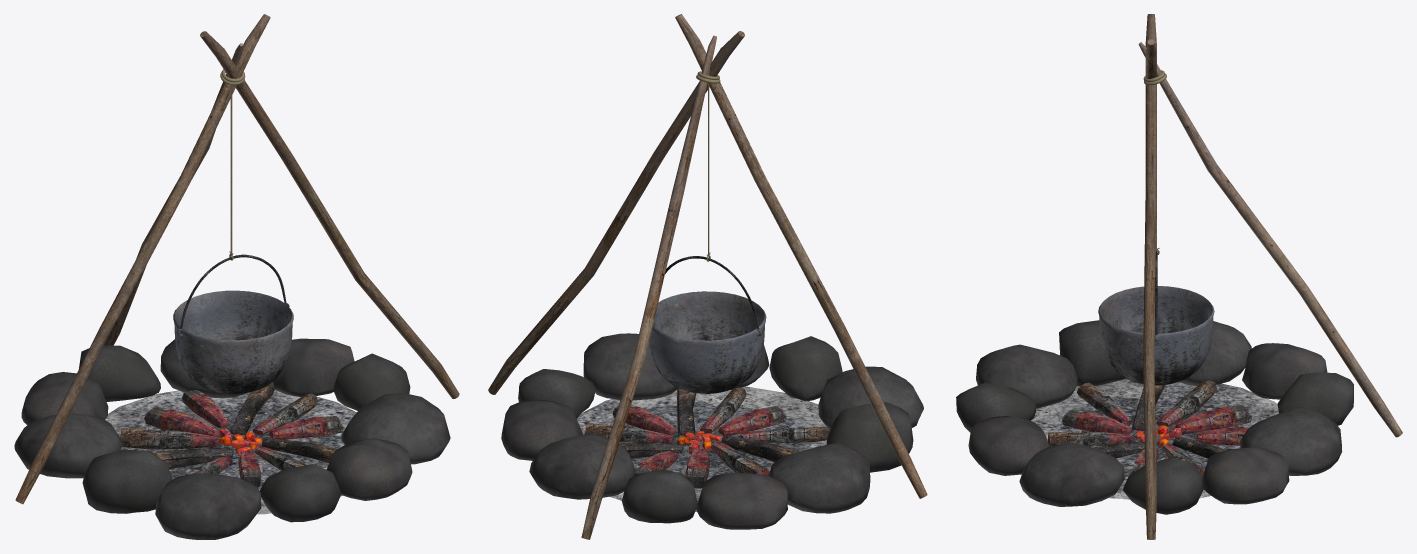
Rendered from campfire-with-cauldron.dae.
3 views of the same model, side by side, from view 1: azimuth 30°, elevation 25°; view 2: azimuth 150°, elevation 25°; view 3: azimuth 270°, elevation 25° (orthographic). The views are drawn at different scales.
Visible parts, largest first — view 1: Camp_Fire_Fire_Woods_Rocks, Camp_Fire_woods_and_ground_Fire_Woods, Camp_Fire_Fire_Woods_utensil_and_rope; view 2: Camp_Fire_Fire_Woods_Rocks, Camp_Fire_woods_and_ground_Fire_Woods, Camp_Fire_Fire_Woods_utensil_and_rope; view 3: Camp_Fire_Fire_Woods_Rocks, Camp_Fire_woods_and_ground_Fire_Woods, Camp_Fire_Fire_Woods_utensil_and_rope.
Boxes of the visible parts, <box> form: Camp_Fire_Fire_Woods_Rocks: <box>14,338,450,539</box>; Camp_Fire_woods_and_ground_Fire_Woods: <box>15,14,459,514</box>; Camp_Fire_Fire_Woods_utensil_and_rope: <box>173,69,293,394</box>; Camp_Fire_Fire_Woods_Rocks: <box>501,333,923,529</box>; Camp_Fire_woods_and_ground_Fire_Woods: <box>488,14,927,539</box>; Camp_Fire_Fire_Woods_utensil_and_rope: <box>649,71,766,393</box>; Camp_Fire_Fire_Woods_Rocks: <box>956,320,1353,514</box>; Camp_Fire_woods_and_ground_Fire_Woods: <box>1031,14,1402,539</box>; Camp_Fire_Fire_Woods_utensil_and_rope: <box>1098,70,1214,385</box>.
Bounding box in the file's own units: 24.56 × 22.32 × 22.84.
3 materials, 3 textured.
